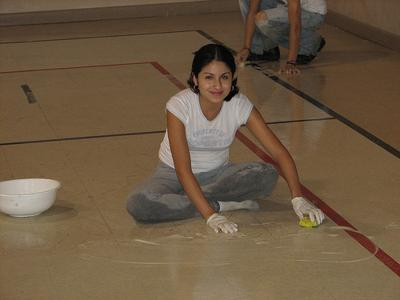person: (124, 43, 326, 234)
